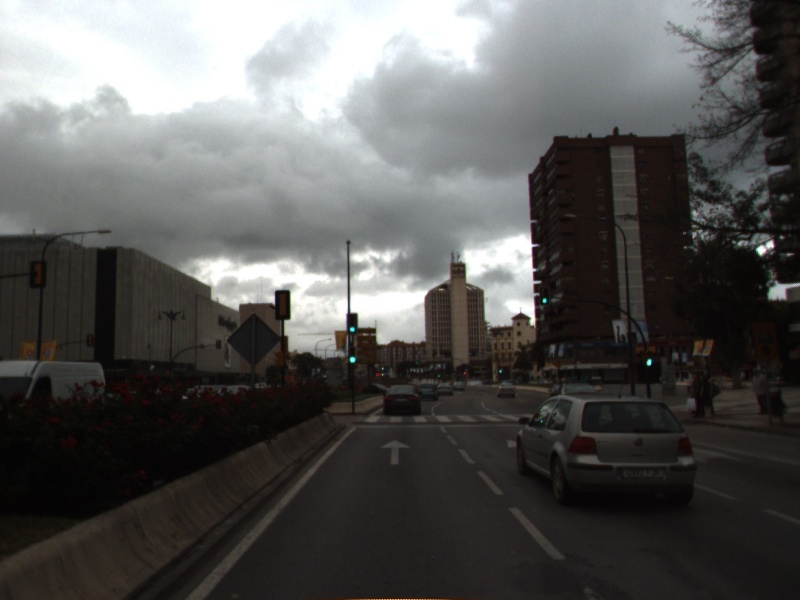STRAIGHT: (378, 437, 413, 467)
